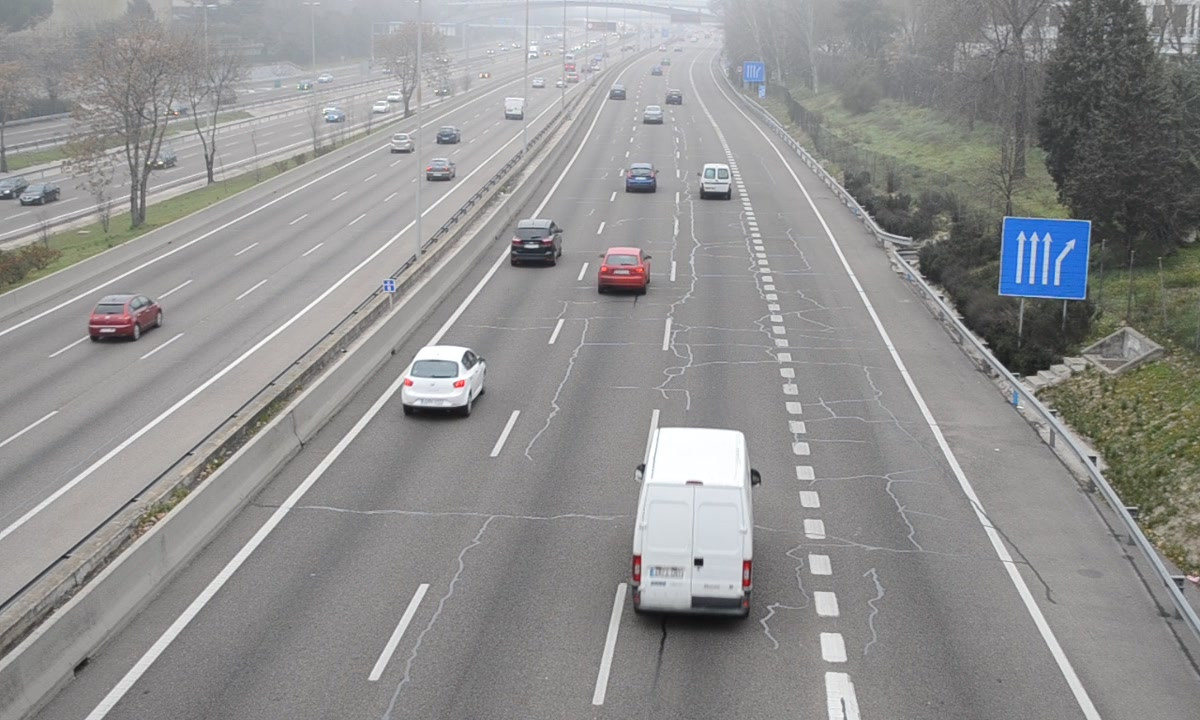car: (401, 345, 487, 409), (510, 219, 562, 267), (600, 246, 648, 293), (624, 162, 658, 193)
van: (632, 426, 751, 615), (700, 163, 734, 200)
